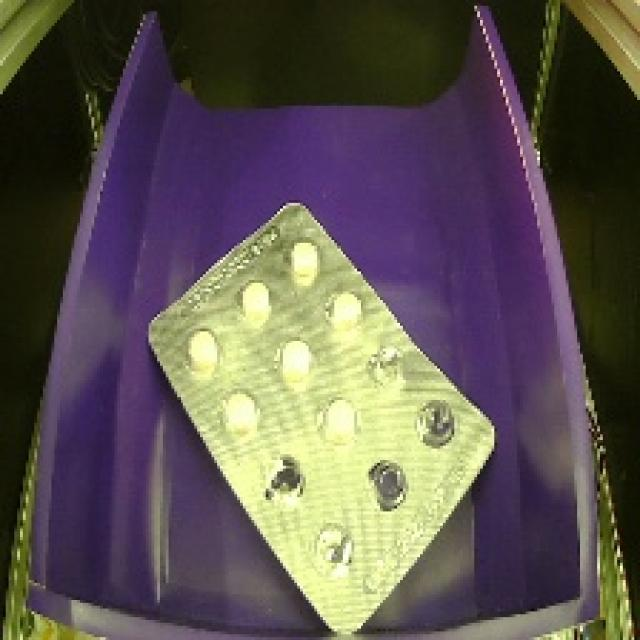med_plate: (131, 185, 507, 640)
